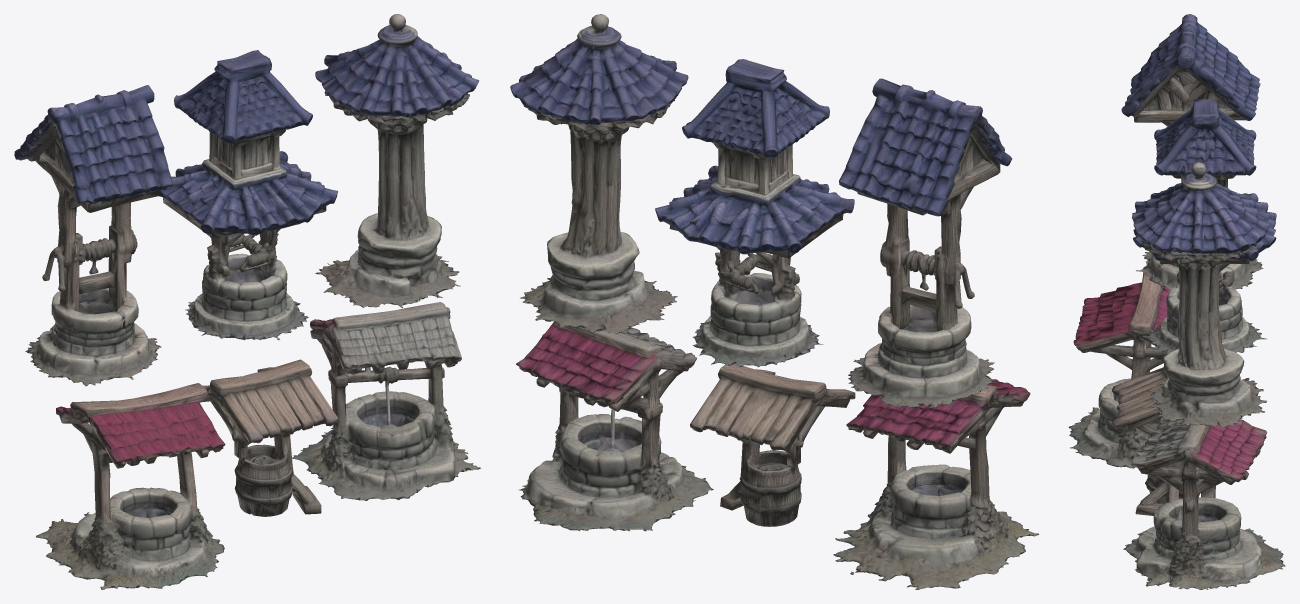
The model's file is roofed_wells.glb.
The picture shows the model from 3 angles, left to right: view 1: azimuth 30°, elevation 25°; view 2: azimuth 150°, elevation 25°; view 3: azimuth 270°, elevation 25°; orthographic projection. The views are drawn at different scales.
Size of the model in its own units: 1.89 by 1.9 by 0.9361.
1 material, 1 textured.
